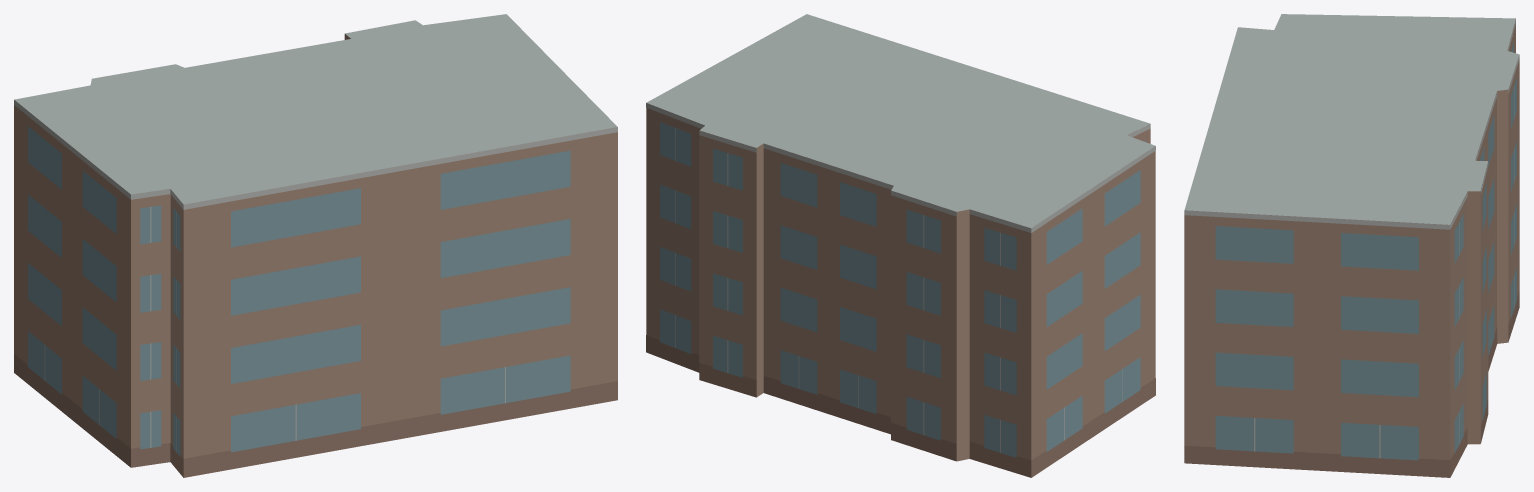
The model's file is survey-upis-32529700.glb.
3 views of the same model, side by side, from view 1: azimuth 30°, elevation 25°; view 2: azimuth 150°, elevation 25°; view 3: azimuth 270°, elevation 25° (orthographic). The views are drawn at different scales.
Parts seen in each view (by area): view 1: survey-upis-32529700.tmp; view 2: survey-upis-32529700.tmp; view 3: survey-upis-32529700.tmp.
Boxes of the visible parts, bbox=[...] form: survey-upis-32529700.tmp: bbox=[14, 14, 617, 477]; survey-upis-32529700.tmp: bbox=[646, 14, 1155, 477]; survey-upis-32529700.tmp: bbox=[1184, 14, 1519, 477].
Size of the model in its own units: 22.89 by 12.8 by 15.38.
